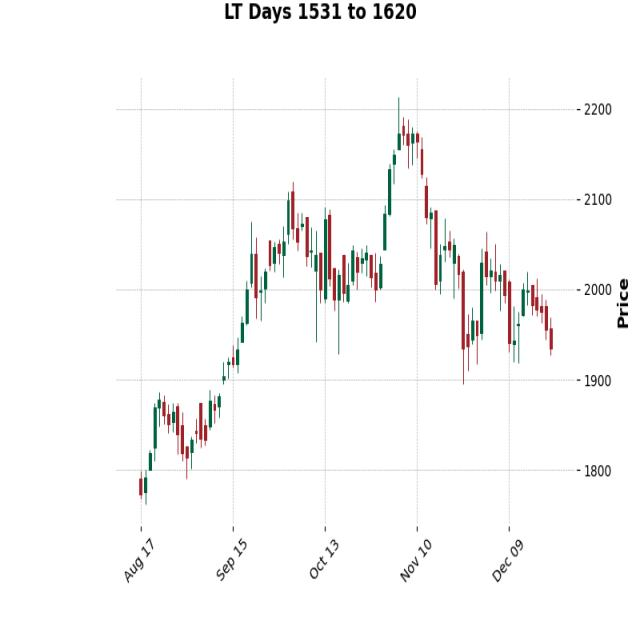Head and Shoulder: (261, 81, 535, 376)
